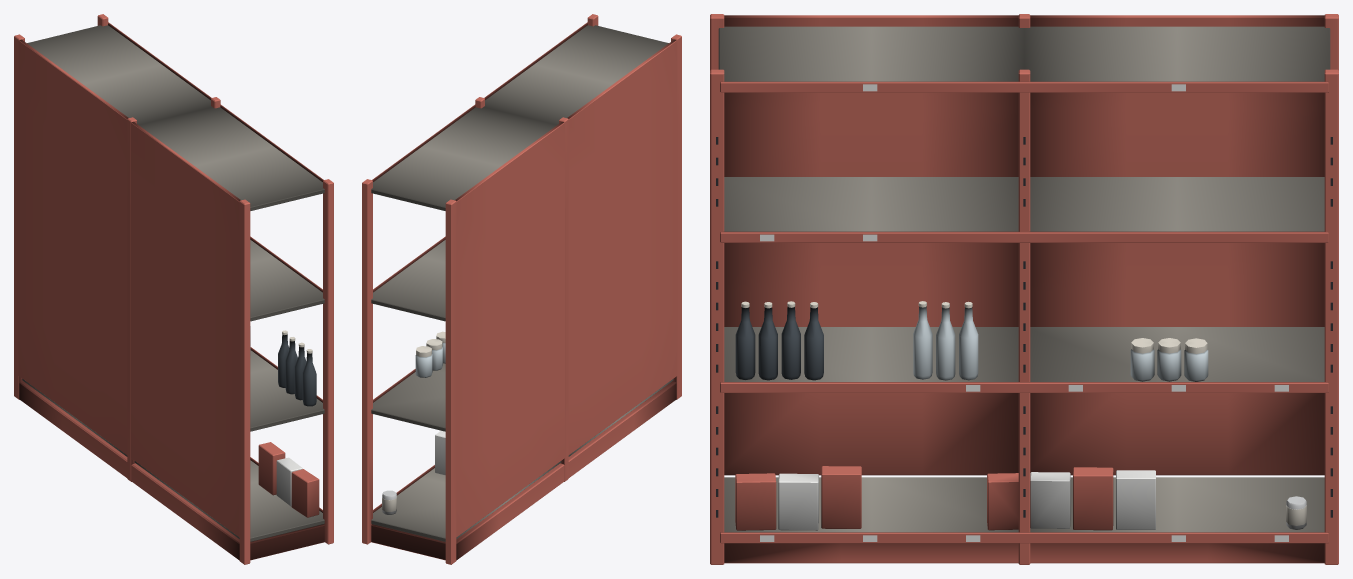
The model's file is shelf.glb.
3 views of the same model, side by side, from view 1: azimuth 30°, elevation 25°; view 2: azimuth 150°, elevation 25°; view 3: azimuth 270°, elevation 25° (orthographic). The views are drawn at different scales.
Parts seen in each view (by area): view 1: PART; view 2: PART; view 3: PART.
Part boxes in pixels (bbox=[...]): PART: bbox=[14, 14, 333, 564]; PART: bbox=[362, 14, 681, 564]; PART: bbox=[710, 14, 1338, 564].
Size of the model in its own units: 0.504 by 1.9 by 2.2.
